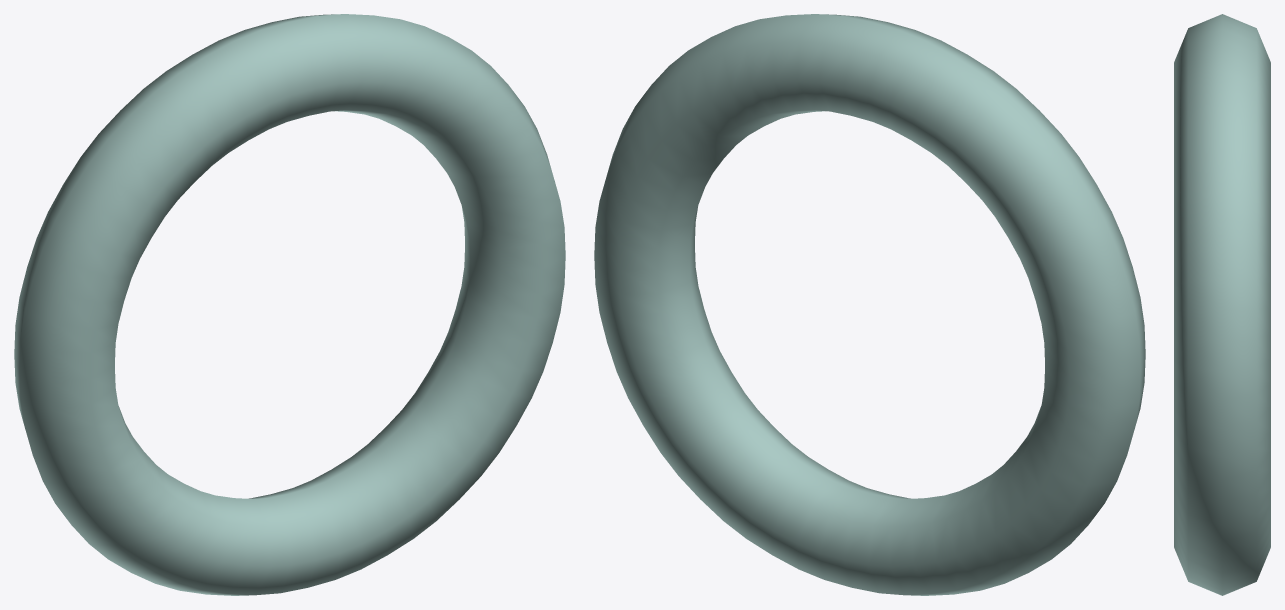
File: climb_anchor.glb
The picture shows the model from 3 angles, left to right: view 1: azimuth 30°, elevation 25°; view 2: azimuth 150°, elevation 25°; view 3: azimuth 270°, elevation 25°; orthographic projection. The views are drawn at different scales.
Parts seen in each view (by area): view 1: AnchorRing; view 2: AnchorRing; view 3: AnchorRing.
Part boxes in pixels (x1=…): AnchorRing: x1=14, y1=14, x2=565, y2=595; AnchorRing: x1=594, y1=14, x2=1145, y2=595; AnchorRing: x1=1174, y1=14, x2=1270, y2=595.
Size of the model in its own units: 0.168 by 0.168 by 0.028.
